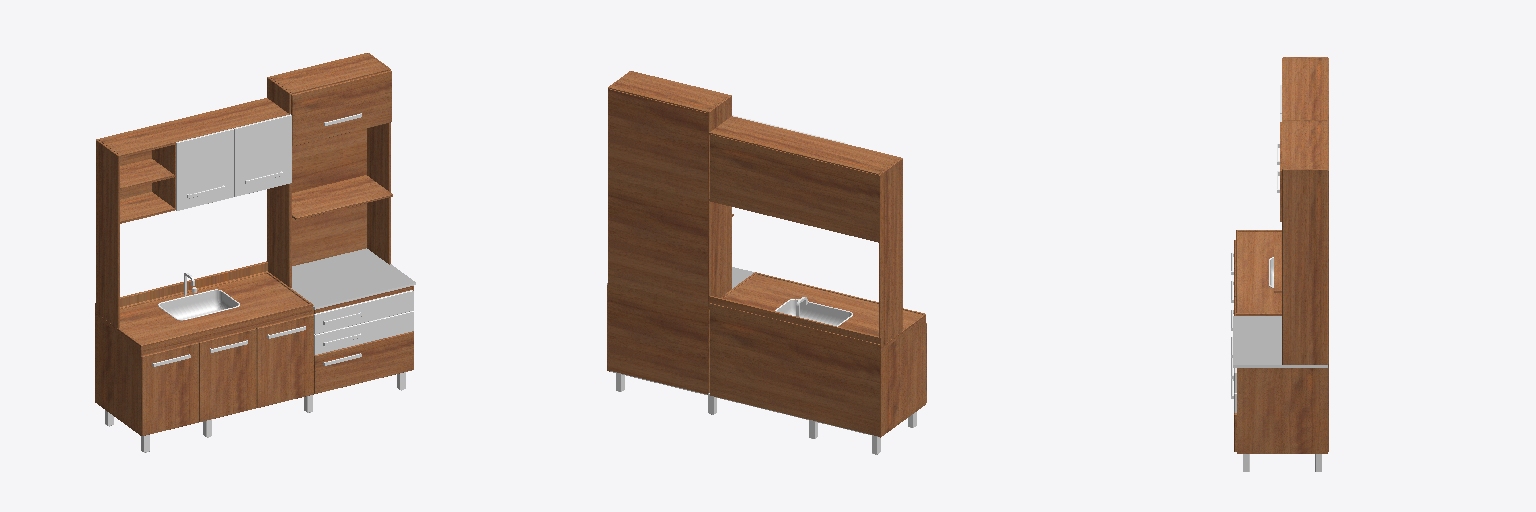
3 views of the same model, side by side, from view 1: azimuth 30°, elevation 25°; view 2: azimuth 150°, elevation 25°; view 3: azimuth 270°, elevation 25° (orthographic).
Visible parts, largest first — view 1: Line001_15, Box051_54, Box026_61, Box003_1, Box023_63, Box021_63, Box022_63, Box011_8, Box005_2, Box012_9, Box025_57, Box024_57 (+13 smaller); view 2: Box051_54, Box052_55, Box050_53, Line001_15, Box011_8, Box005_2, Box012_9, Box007_4, Box008_5, Rectangle0_71; view 3: Box017_4, Box004_2, Line001_15, Box012_9, Box003_1, Box008_5.
Boxes of the visible parts, <box> form: Line001_15: <box>95,261,312,349</box>; Box051_54: <box>292,128,366,265</box>; Box026_61: <box>291,70,391,145</box>; Box003_1: <box>291,248,415,309</box>; Box023_63: <box>141,342,198,435</box>; Box021_63: <box>199,328,256,421</box>; Box022_63: <box>256,314,313,407</box>; Box011_8: <box>96,139,119,328</box>; Box005_2: <box>95,317,142,435</box>; Box012_9: <box>98,98,289,157</box>; Box025_57: <box>234,114,291,196</box>; Box024_57: <box>176,128,233,210</box>; Box051_54: <box>608,89,707,394</box>; Box052_55: <box>710,303,879,436</box>; Box050_53: <box>710,134,879,242</box>; Line001_15: <box>709,272,925,351</box>; Box011_8: <box>879,158,902,345</box>; Box005_2: <box>880,319,925,437</box>; Box012_9: <box>709,116,900,174</box>; Box007_4: <box>707,95,731,306</box>; Box008_5: <box>610,71,728,112</box>; Rectangle0_71: <box>775,299,852,326</box>; Box017_4: <box>1282,169,1327,364</box>; Box004_2: <box>1237,368,1327,453</box>; Line001_15: <box>1236,230,1281,315</box>; Box012_9: <box>1282,58,1327,120</box>; Box003_1: <box>1233,316,1327,367</box>; Box008_5: <box>1282,121,1327,168</box>.
Bounding box in the file's own units: 188 × 201 × 57.93.
6 materials, 1 textured.